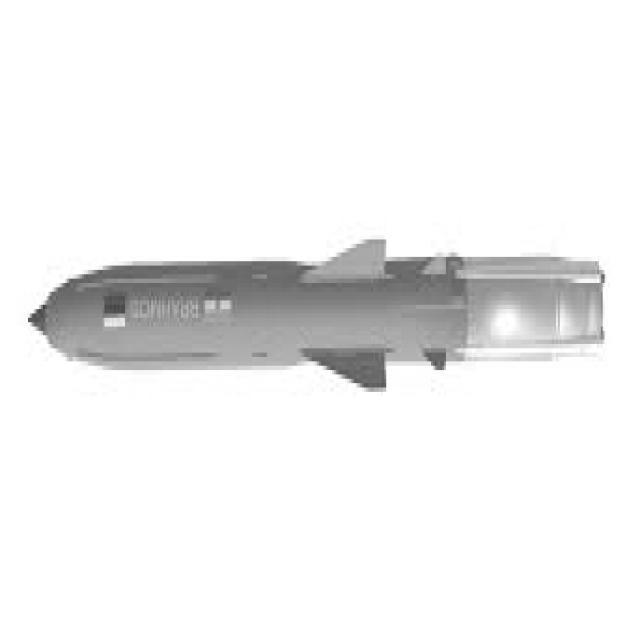Missile: (29, 232, 609, 410)
